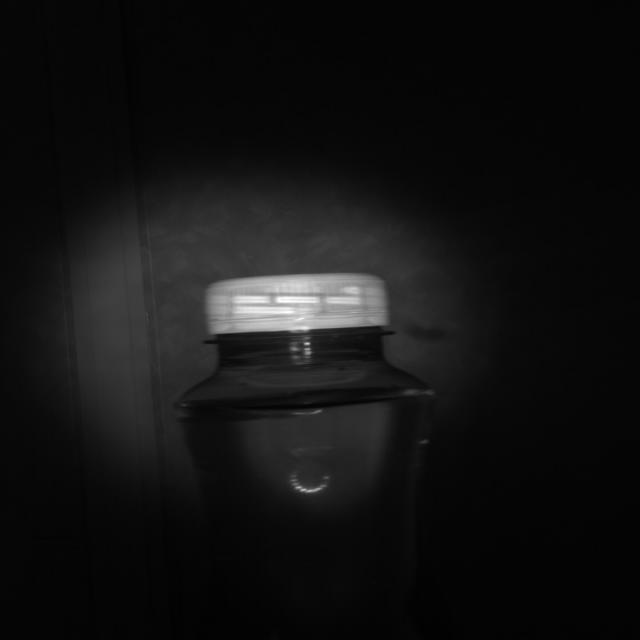Good: (208, 273, 390, 336)
